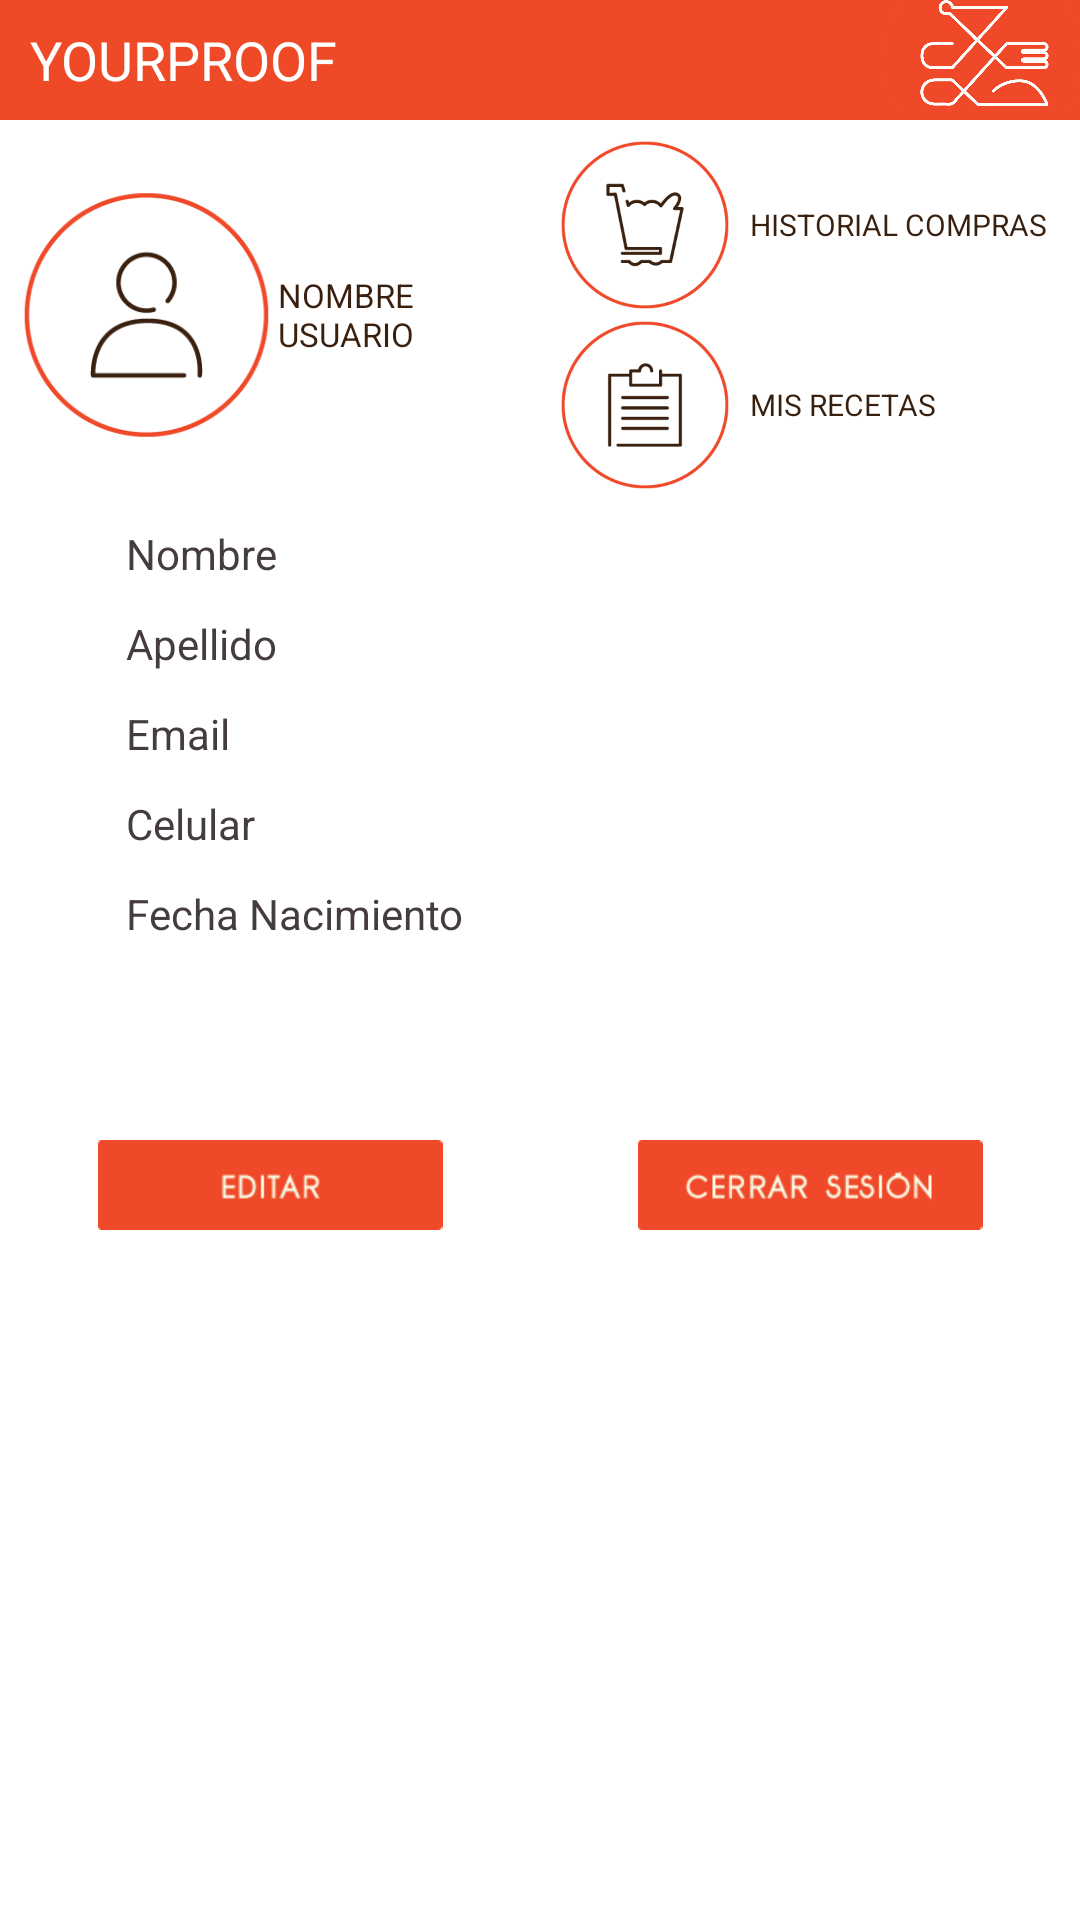

Named icons in this screenshot (1080px x 1920px) and their centers, point (x, y):
almacenesdecadena: point (645, 225)
